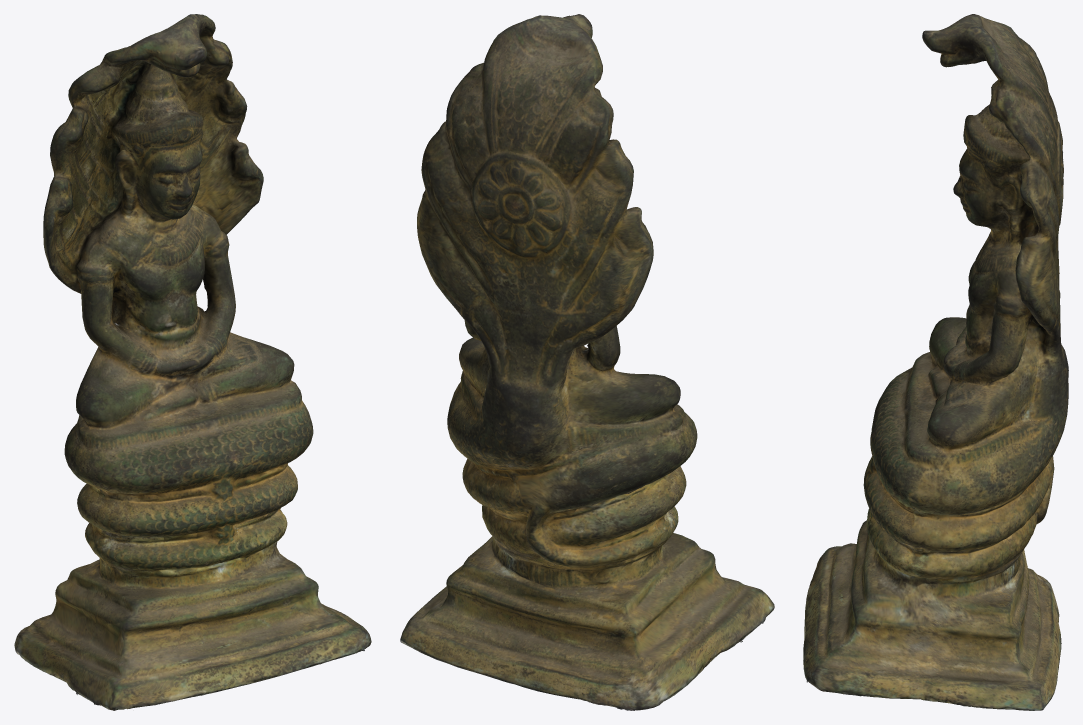
File: thai_buddha.glb
3 views of the same model, side by side, from view 1: azimuth 30°, elevation 25°; view 2: azimuth 150°, elevation 25°; view 3: azimuth 270°, elevation 25° (orthographic). The views are drawn at different scales.
Visible parts, largest first — view 1: Object_2; view 2: Object_2; view 3: Object_2.
Part boxes in pixels (x1=…): Object_2: x1=14, y1=14, x2=371, y2=710; Object_2: x1=400, y1=14, x2=774, y2=710; Object_2: x1=803, y1=14, x2=1068, y2=710.
Bounding box in the file's own units: 3.24 × 7.23 × 2.73.
1 material, 1 textured.
